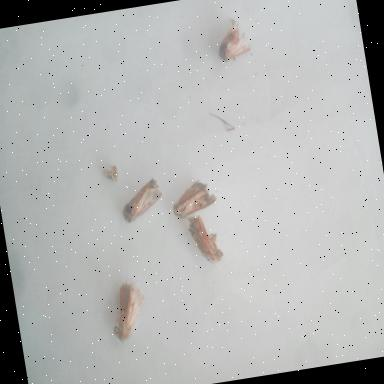abw: (102, 276, 156, 346), (181, 206, 228, 274), (115, 172, 170, 228), (166, 171, 222, 223), (209, 15, 257, 68)
